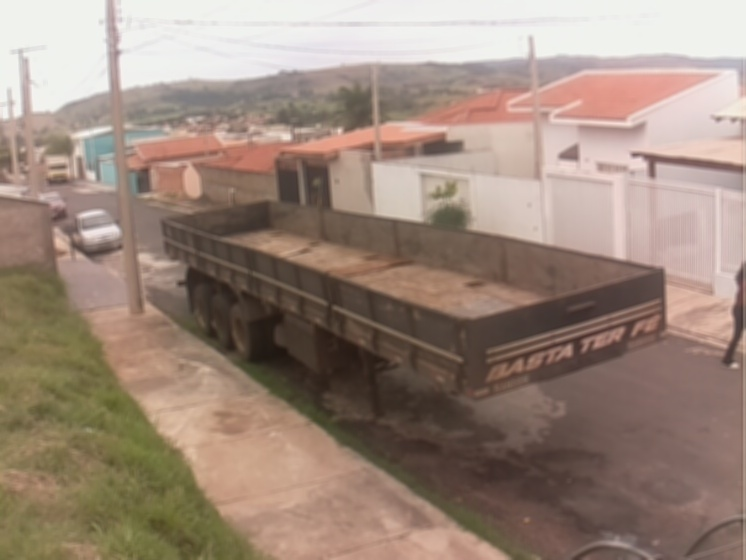person: (720, 262, 746, 371)
